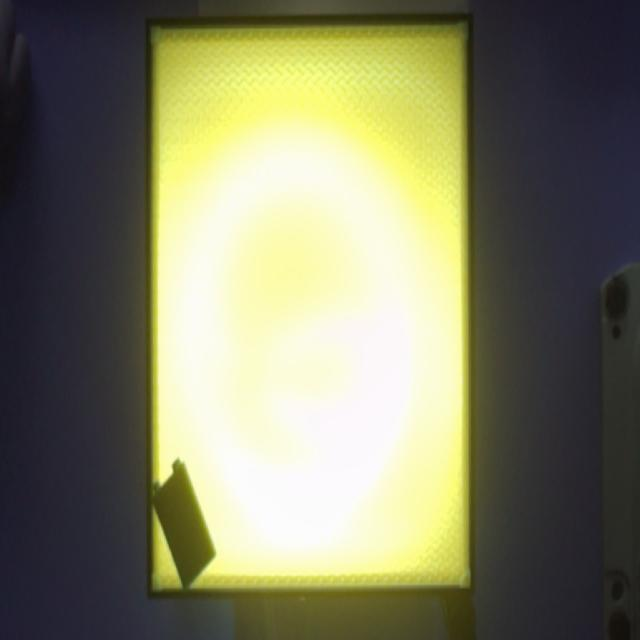bateria: (151, 457, 217, 590)
mesa: (146, 13, 474, 600)
